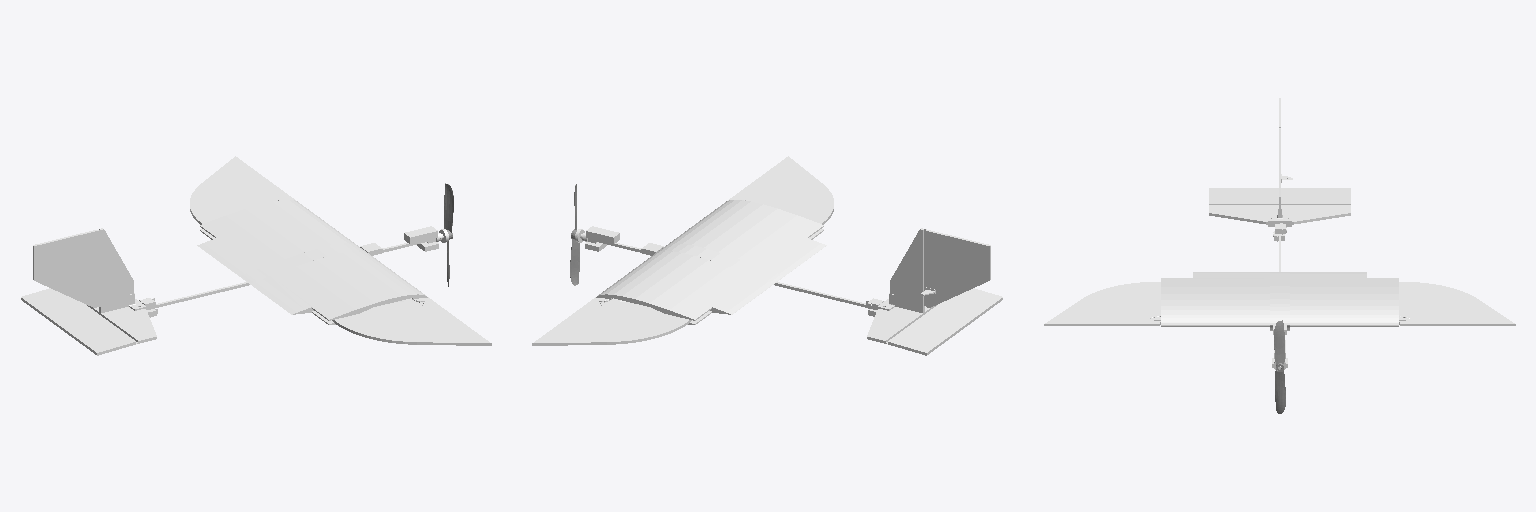
URDF robot description (CAD_Prototype_1_flipped_root_URDF_meshed):
<?xml version="1.0" encoding="utf-8"?>
<!-- This URDF was automatically created by SolidWorks to URDF Exporter! Originally created by Stephen Brawner (brawner@gmail.com) 
     Commit Version: 1.6.0-4-g7f85cfe  Build Version: 1.6.7995.38578
     For more information, please see http://wiki.ros.org/sw_urdf_exporter -->
<robot
  name="CAD_Prototype_1_flipped_root_URDF_meshed">
  <link
    name="fuselage">
    <inertial>
      <origin
        xyz="-0.021762 -2.6674E-06 -0.0047691"
        rpy="0 0 0" />
      <mass
        value="0.064126" />
      <inertia
        ixx="2.313E-06"
        ixy="-1.0854E-08"
        ixz="5.7289E-08"
        iyy="0.00021013"
        iyz="-1.934E-09"
        izz="0.00021122" />
    </inertial>
    <visual>
      <origin
        xyz="0 0 0"
        rpy="0 0 0" />
      <geometry>
        <mesh
          filename="package://meshes/fuselage.STL" />
      </geometry>
      <material
        name="">
        <color
          rgba="1 1 1 1" />
      </material>
    </visual>
    <collision>
      <origin
        xyz="0 0 0"
        rpy="0 0 0" />
      <geometry>
        <mesh
          filename="package://meshes/fuselage.STL" />
      </geometry>
    </collision>
  </link>
  <link
    name="horizontal_tail_fixed">
    <inertial>
      <origin
        xyz="-0.37292 1.2751E-15 0.00155"
        rpy="0 0 0" />
      <mass
        value="0.0021828" />
      <inertia
        ixx="5.9805E-06"
        ixy="-1.9375E-20"
        ixz="-1.6586E-21"
        iyy="4.8949E-07"
        iyz="-1.2008E-21"
        izz="6.4642E-06" />
    </inertial>
    <visual>
      <origin
        xyz="0 0 0"
        rpy="0 0 0" />
      <geometry>
        <mesh
          filename="package://meshes/horizontal_tail_fixed.STL" />
      </geometry>
      <material
        name="">
        <color
          rgba="1 1 1 1" />
      </material>
    </visual>
    <collision>
      <origin
        xyz="0 0 0"
        rpy="0 0 0" />
      <geometry>
        <mesh
          filename="package://meshes/horizontal_tail_fixed.STL" />
      </geometry>
    </collision>
  </link>
  <joint
    name="joint_horizontal_tail_fixed"
    type="fixed">
    <origin
      xyz="0 0 0"
      rpy="0 0 0" />
    <parent
      link="fuselage" />
    <child
      link="horizontal_tail_fixed" />
    <axis
      xyz="0 0 0" />
  </joint>
  <link
    name="elevator_hinged">
    <inertial>
      <origin
        xyz="-0.02816 -0.0012803 -0.00018019"
        rpy="0 0 0" />
      <mass
        value="0.0031868" />
      <inertia
        ixx="9.4547E-06"
        ixy="1.6943E-21"
        ixz="-3.5065E-08"
        iyy="8.4348E-07"
        iyz="-9.2935E-22"
        izz="1.0269E-05" />
    </inertial>
    <visual>
      <origin
        xyz="0 0 0"
        rpy="0 0 0" />
      <geometry>
        <mesh
          filename="package://meshes/elevator_hinged.STL" />
      </geometry>
      <material
        name="">
        <color
          rgba="1 1 1 1" />
      </material>
    </visual>
    <collision>
      <origin
        xyz="0 0 0"
        rpy="0 0 0" />
      <geometry>
        <mesh
          filename="package://meshes/elevator_hinged.STL" />
      </geometry>
    </collision>
  </link>
  <joint
    name="joint_elevator_hinged"
    type="revolute">
    <origin
      xyz="-0.39899772195773 0 -0.000545430496194116"
      rpy="0 0 0" />
    <parent
      link="horizontal_tail_fixed" />
    <child
      link="elevator_hinged" />
    <axis
      xyz="0 -1 0" />
    <limit
      lower="-0.5"
      upper="0.5"
      effort="1.5"
      velocity="25.0" />
    <dynamics
      damping="0.01"
      friction="0.03" />
  </joint>
  <link
    name="vertical_tail_fixed">
    <inertial>
      <origin
        xyz="-0.37659 2.5E-05 0.046776"
        rpy="0 0 0" />
      <mass
        value="0.0011935" />
      <inertia
        ixx="1.1213E-06"
        ixy="7.519E-22"
        ixz="1.969E-07"
        iyy="1.3361E-06"
        iyz="-6.4044E-22"
        izz="2.1797E-07" />
    </inertial>
    <visual>
      <origin
        xyz="0 0 0"
        rpy="0 0 0" />
      <geometry>
        <mesh
          filename="package://meshes/vertical_tail_fixed.STL" />
      </geometry>
      <material
        name="">
        <color
          rgba="1 1 1 1" />
      </material>
    </visual>
    <collision>
      <origin
        xyz="0 0 0"
        rpy="0 0 0" />
      <geometry>
        <mesh
          filename="package://meshes/vertical_tail_fixed.STL" />
      </geometry>
    </collision>
  </link>
  <joint
    name="joint_vertical_tail_fixed"
    type="fixed">
    <origin
      xyz="0 0 0"
      rpy="0 0 0" />
    <parent
      link="fuselage" />
    <child
      link="vertical_tail_fixed" />
    <axis
      xyz="0 0 0" />
  </joint>
  <link
    name="rudder_hinged">
    <inertial>
      <origin
        xyz="-0.035584 0.0029847 0.011218"
        rpy="0 0 0" />
      <mass
        value="0.0025864" />
      <inertia
        ixx="1.6338E-06"
        ixy="2.641E-10"
        ixz="5.4249E-07"
        iyy="3.2864E-06"
        iyz="-5.4779E-10"
        izz="1.6767E-06" />
    </inertial>
    <visual>
      <origin
        xyz="0 0 0"
        rpy="0 0 0" />
      <geometry>
        <mesh
          filename="package://meshes/rudder_hinged.STL" />
      </geometry>
      <material
        name="">
        <color
          rgba="1 1 1 1" />
      </material>
    </visual>
    <collision>
      <origin
        xyz="0 0 0"
        rpy="0 0 0" />
      <geometry>
        <mesh
          filename="package://meshes/rudder_hinged.STL" />
      </geometry>
    </collision>
  </link>
  <joint
    name="joint_rudder_hinged"
    type="revolute">
    <origin
      xyz="-0.402 -0.0019749999999986 0.0635500000000013"
      rpy="0 0 0" />
    <parent
      link="vertical_tail_fixed" />
    <child
      link="rudder_hinged" />
    <axis
      xyz="0 0 -1" />
    <limit
      lower="-0.5"
      upper="0.5"
      effort="1.5"
      velocity="25.0" />
    <dynamics
      damping="0.01"
      friction="0.03" />
  </joint>
  <link
    name="root_wing_fixed">
    <inertial>
      <origin
        xyz="-0.064062 -0.00011236 -0.0031017"
        rpy="0 0 0" />
      <mass
        value="0.036045" />
      <inertia
        ixx="5.1344E-05"
        ixy="2.6256E-07"
        ixz="6.4042E-08"
        iyy="2.9378E-05"
        iyz="-7.7245E-10"
        izz="7.8409E-05" />
    </inertial>
    <visual>
      <origin
        xyz="0 0 0"
        rpy="0 0 0" />
      <geometry>
        <mesh
          filename="package://meshes/root_wing_fixed.STL" />
      </geometry>
      <material
        name="">
        <color
          rgba="1 1 1 1" />
      </material>
    </visual>
    <collision>
      <origin
        xyz="0 0 0"
        rpy="0 0 0" />
      <geometry>
        <mesh
          filename="package://meshes/root_wing_fixed.STL" />
      </geometry>
    </collision>
  </link>
  <joint
    name="joint_root_wing_fixed"
    type="fixed">
    <origin
      xyz="0 0 0"
      rpy="0 0 0" />
    <parent
      link="fuselage" />
    <child
      link="root_wing_fixed" />
    <axis
      xyz="0 0 0" />
  </joint>
  <link
    name="left_outer_wing_hinged">
    <inertial>
      <origin
        xyz="-0.04542 0.046938 -1.0524E-05"
        rpy="0 0 0" />
      <mass
        value="0.0055726" />
      <inertia
        ixx="9.7927E-06"
        ixy="-3.9369E-06"
        ixz="3.2981E-14"
        iyy="7.894E-06"
        iyz="5.9136E-14"
        izz="1.7673E-05" />
    </inertial>
    <visual>
      <origin
        xyz="0 0 0"
        rpy="0 0 0" />
      <geometry>
        <mesh
          filename="package://meshes/left_outer_wing_hinged.STL" />
      </geometry>
      <material
        name="">
        <color
          rgba="1 1 1 1" />
      </material>
    </visual>
    <collision>
      <origin
        xyz="0 0 0"
        rpy="0 0 0" />
      <geometry>
        <mesh
          filename="package://meshes/left_outer_wing_hinged.STL" />
      </geometry>
    </collision>
  </link>
  <joint
    name="joint_left_outer_wing_hinged"
    type="revolute">
    <origin
      xyz="-0.0144999999999965 0.1735 0"
      rpy="0 0 0" />
    <parent
      link="root_wing_fixed" />
    <child
      link="left_outer_wing_hinged" />
    <axis
      xyz="0 0 -1" />
    <limit
      lower="-1.4"
      upper="0.2"
      effort="1.5"
      velocity="20.0" />
    <dynamics
      damping="0.01"
      friction="0.05" />
  </joint>
  <link
    name="right_outer_wing_hinged">
    <inertial>
      <origin
        xyz="-0.04542 -0.046938 1.0524E-05"
        rpy="0 0 0" />
      <mass
        value="0.0055726" />
      <inertia
        ixx="9.7927E-06"
        ixy="3.9369E-06"
        ixz="-3.298E-14"
        iyy="7.894E-06"
        iyz="5.9136E-14"
        izz="1.7673E-05" />
    </inertial>
    <visual>
      <origin
        xyz="0 0 0"
        rpy="0 0 0" />
      <geometry>
        <mesh
          filename="package://meshes/right_outer_wing_hinged.STL" />
      </geometry>
      <material
        name="">
        <color
          rgba="1 1 1 1" />
      </material>
    </visual>
    <collision>
      <origin
        xyz="0 0 0"
        rpy="0 0 0" />
      <geometry>
        <mesh
          filename="package://meshes/right_outer_wing_hinged.STL" />
      </geometry>
    </collision>
  </link>
  <joint
    name="joint_right_outer_wing_hinged"
    type="revolute">
    <origin
      xyz="-0.0145000000000005 -0.173499999999995 0"
      rpy="0 0 0" />
    <parent
      link="root_wing_fixed" />
    <child
      link="right_outer_wing_hinged" />
    <axis
      xyz="0 0 1" />
    <limit
      lower="-1.4"
      upper="0.2"
      effort="1.5"
      velocity="20.0" />
    <dynamics
      damping="0.01"
      friction="0.05" />
  </joint>
  <link
    name="propeller_fixed">
    <inertial>
      <origin
        xyz="0.12734 -1.9995E-05 -0.00627"
        rpy="0 0 0" />
      <mass
        value="0.0028325" />
      <inertia
        ixx="2.373E-06"
        ixy="6.3356E-14"
        ixz="-2.0682E-13"
        iyy="2.3385E-06"
        iyz="2.3412E-08"
        izz="5.3486E-08" />
    </inertial>
    <visual>
      <origin
        xyz="0 0 0"
        rpy="0 0 0" />
      <geometry>
        <mesh
          filename="package://meshes/propeller_fixed.STL" />
      </geometry>
      <material
        name="">
        <color
          rgba="0.69804 0.69804 0.69804 1" />
      </material>
    </visual>
    <collision>
      <origin
        xyz="0 0 0"
        rpy="0 0 0" />
      <geometry>
        <mesh
          filename="package://meshes/propeller_fixed.STL" />
      </geometry>
    </collision>
  </link>
  <joint
    name="joint_propeller_fixed"
    type="fixed">
    <origin
      xyz="0 0 0"
      rpy="0 0 0" />
    <parent
      link="fuselage" />
    <child
      link="propeller_fixed" />
    <axis
      xyz="0 0 0" />
  </joint>
</robot>

--- What the picture shows (computed from the rendered views, not written in the file) ---
Views: 3 orthographic renders of the robot side by side, from view 1: azimuth 30°, elevation 25°; view 2: azimuth 150°, elevation 25°; view 3: azimuth 270°, elevation 25°.
Model CAD_Prototype_1_flipped_root_URDF_meshed with 9 links and 8 joints (4 revolute, 4 fixed), rooted at fuselage, posed every joint at zero.
Visible links, largest first — view 1: root_wing_fixed, right_outer_wing_hinged, rudder_hinged, left_outer_wing_hinged, elevator_hinged, fuselage, vertical_tail_fixed, horizontal_tail_fixed, propeller_fixed; view 2: root_wing_fixed, left_outer_wing_hinged, rudder_hinged, right_outer_wing_hinged, elevator_hinged, vertical_tail_fixed, fuselage, horizontal_tail_fixed, propeller_fixed; view 3: root_wing_fixed, left_outer_wing_hinged, right_outer_wing_hinged, elevator_hinged, horizontal_tail_fixed, propeller_fixed, fuselage.
Link boxes in pixels (x1,y1,x2,y2): root_wing_fixed: (197, 200, 427, 324); right_outer_wing_hinged: (332, 297, 491, 345); rudder_hinged: (33, 230, 100, 307); left_outer_wing_hinged: (190, 156, 295, 224); elevator_hinged: (21, 288, 137, 355); fuselage: (129, 226, 448, 317); vertical_tail_fixed: (99, 228, 133, 312); horizontal_tail_fixed: (87, 305, 156, 343); propeller_fixed: (444, 183, 453, 286); root_wing_fixed: (596, 200, 826, 324); left_outer_wing_hinged: (532, 297, 691, 345); rudder_hinged: (921, 229, 990, 307); right_outer_wing_hinged: (728, 156, 833, 224); elevator_hinged: (886, 288, 1002, 355); vertical_tail_fixed: (890, 228, 924, 312); fuselage: (575, 226, 894, 316); horizontal_tail_fixed: (867, 305, 936, 343); propeller_fixed: (570, 184, 579, 285); root_wing_fixed: (1150, 272, 1409, 330); left_outer_wing_hinged: (1399, 282, 1515, 325); right_outer_wing_hinged: (1044, 282, 1160, 325); elevator_hinged: (1209, 188, 1350, 204); horizontal_tail_fixed: (1209, 205, 1350, 224); propeller_fixed: (1274, 320, 1285, 413); fuselage: (1268, 206, 1291, 369).
Bounding box of the posed robot: 0.6276 × 0.667 × 0.2025 m (x, y, z).
Meshes: 9 distinct files referenced, 9 mesh visuals loaded (9 binary STL).
